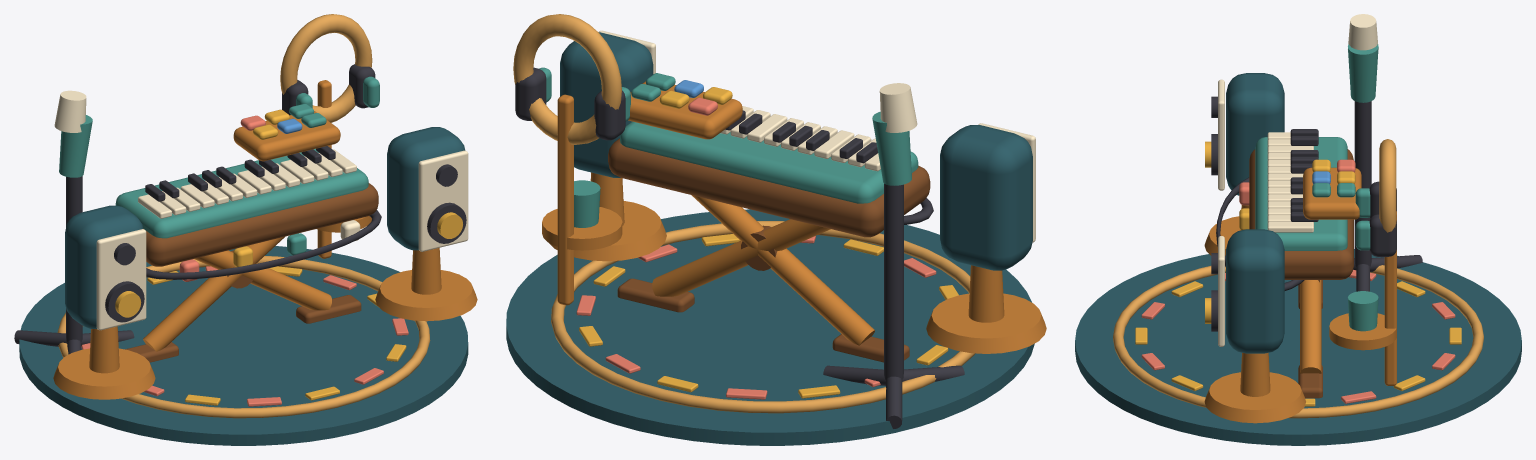
The model's file is music-corner.glb.
3 renders of one model, left to right at view 1: azimuth 30°, elevation 25°; view 2: azimuth 150°, elevation 25°; view 3: azimuth 270°, elevation 25°, orthographic. The views are drawn at different scales.
Visible parts, largest first — view 1: round-deep-teal-rhythm-rug-with-finished-edge-surface-0, compact-small-keyboard-six-pad-sampler-and-control-shelf-sur (×3), round-deep-teal-rhythm-rug-with-finished-edge-surface-2, rounded-speaker-1-surface-4, rounded-speaker-2-surface-4, rounded-speaker-2-surface-0, rounded-speaker-1-surface-0, adjustable-standing-microphone-tripod-and-routed-lead-surfac (×3), over-ear-headphones-on-dedicated-hook-surface-2, rounded-speaker-2-surface-6, rounded-speaker-1-surface-6, left-x-stand-bar-surface-0 (+15 smaller); view 2: round-deep-teal-rhythm-rug-with-finished-edge-surface-0, compact-small-keyboard-six-pad-sampler-and-control-shelf-sur (×5), rounded-speaker-1-surface-4, round-deep-teal-rhythm-rug-with-finished-edge-surface-2, adjustable-standing-microphone-tripod-and-routed-lead-surfac (×3), over-ear-headphones-on-dedicated-hook-surface-2, rounded-speaker-2-surface-4, rounded-speaker-1-surface-0, left-x-stand-bar-surface-0, right-x-stand-bar-surface-0, over-ear-headphones-on-dedicated-hook-surface-0, rounded-speaker-2-surface-0 (+10 smaller); view 3: round-deep-teal-rhythm-rug-with-finished-edge-surface-0, compact-small-keyboard-six-pad-sampler-and-control-shelf-sur (×4), rounded-speaker-2-surface-4, round-deep-teal-rhythm-rug-with-finished-edge-surface-2, rounded-speaker-1-surface-4, adjustable-standing-microphone-tripod-and-routed-lead-surfac (×3), rounded-speaker-2-surface-0, right-x-stand-bar-surface-0, over-ear-headphones-on-dedicated-hook-surface-12, over-ear-headphones-on-dedicated-hook-surface-2, over-ear-headphones-on-dedicated-hook-surface-0, rounded-speaker-2-surface-2 (+8 smaller).
Boxes of the visible parts, <box> form: round-deep-teal-rhythm-rug-with-finished-edge-surface-0: <box>19,246,468,445</box>; compact-small-keyboard-six-pad-sampler-and-control-shelf-sur (×3): <box>115,111,378,266</box>; round-deep-teal-rhythm-rug-with-finished-edge-surface-2: <box>57,256,430,418</box>; rounded-speaker-1-surface-4: <box>65,205,143,328</box>; rounded-speaker-2-surface-4: <box>387,127,465,250</box>; rounded-speaker-2-surface-0: <box>375,270,477,321</box>; rounded-speaker-1-surface-0: <box>53,348,155,399</box>; adjustable-standing-microphone-tripod-and-routed-lead-surfac (×3): <box>54,90,92,342</box>; over-ear-headphones-on-dedicated-hook-surface-2: <box>280,14,372,122</box>; rounded-speaker-2-surface-6: <box>418,150,468,251</box>; rounded-speaker-1-surface-6: <box>96,229,146,330</box>; left-x-stand-bar-surface-0: <box>143,236,285,351</box>; round-deep-teal-rhythm-rug-with-finished-edge-surface-0: <box>506,209,1034,445</box>; compact-small-keyboard-six-pad-sampler-and-control-shelf-sur (×5): <box>608,81,930,237</box>; rounded-speaker-1-surface-4: <box>940,125,1032,270</box>; round-deep-teal-rhythm-rug-with-finished-edge-surface-2: <box>551,221,975,413</box>; adjustable-standing-microphone-tripod-and-routed-lead-surfac (×3): <box>872,83,917,379</box>; over-ear-headphones-on-dedicated-hook-surface-2: <box>513,14,621,144</box>; rounded-speaker-2-surface-4: <box>560,32,653,177</box>; rounded-speaker-1-surface-0: <box>926,293,1046,353</box>; left-x-stand-bar-surface-0: <box>691,195,874,345</box>; right-x-stand-bar-surface-0: <box>652,219,830,296</box>; over-ear-headphones-on-dedicated-hook-surface-0: <box>557,94,573,305</box>; rounded-speaker-2-surface-0: <box>549,201,666,261</box>; round-deep-teal-rhythm-rug-with-finished-edge-surface-0: <box>1075,249,1521,445</box>; compact-small-keyboard-six-pad-sampler-and-control-shelf-sur (×4): <box>1249,137,1361,279</box>; rounded-speaker-2-surface-4: <box>1226,229,1284,353</box>; round-deep-teal-rhythm-rug-with-finished-edge-surface-2: <box>1113,265,1483,418</box>; rounded-speaker-1-surface-4: <box>1226,73,1284,195</box>; adjustable-standing-microphone-tripod-and-routed-lead-surfac (×3): <box>1348,14,1378,266</box>; rounded-speaker-2-surface-0: <box>1204,372,1305,423</box>; right-x-stand-bar-surface-0: <box>1300,280,1321,373</box>; over-ear-headphones-on-dedicated-hook-surface-12: <box>1329,313,1396,350</box>; over-ear-headphones-on-dedicated-hook-surface-2: <box>1379,139,1396,232</box>; over-ear-headphones-on-dedicated-hook-surface-0: <box>1384,211,1396,385</box>; rounded-speaker-2-surface-2: <box>1240,352,1270,396</box>.
Bounding box in the file's own units: 1.75 × 1.11 × 1.66.
